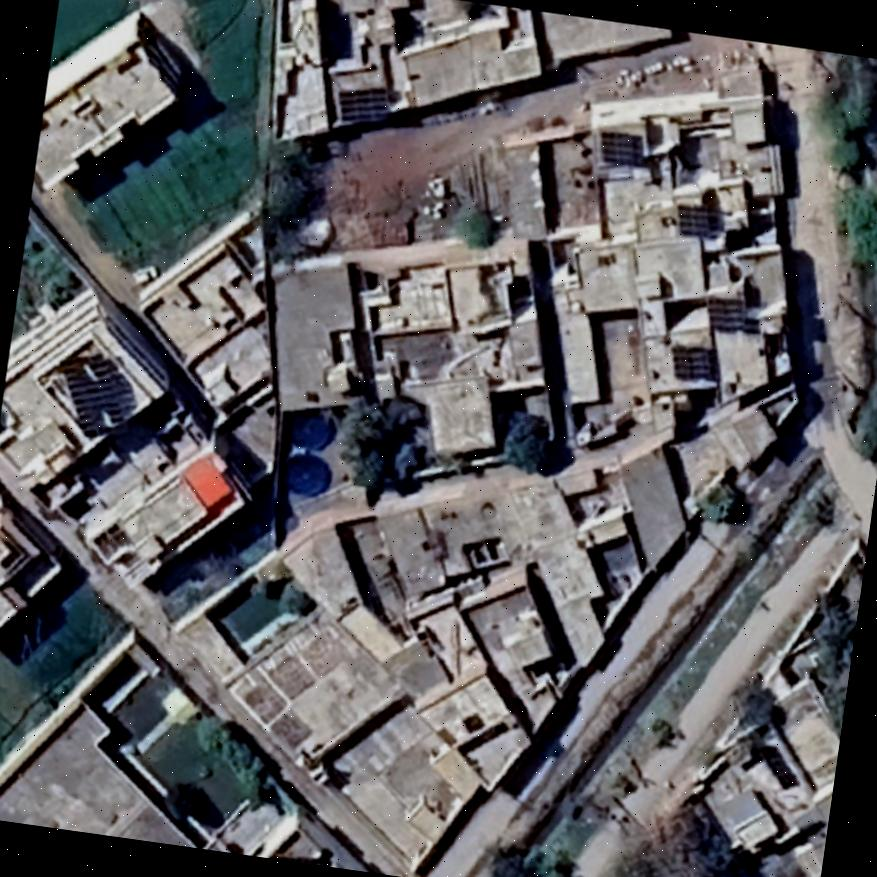Solarpanel: (66, 351, 136, 444), (332, 88, 393, 132), (666, 338, 720, 387), (702, 292, 752, 336), (594, 126, 644, 170), (672, 200, 714, 240)
